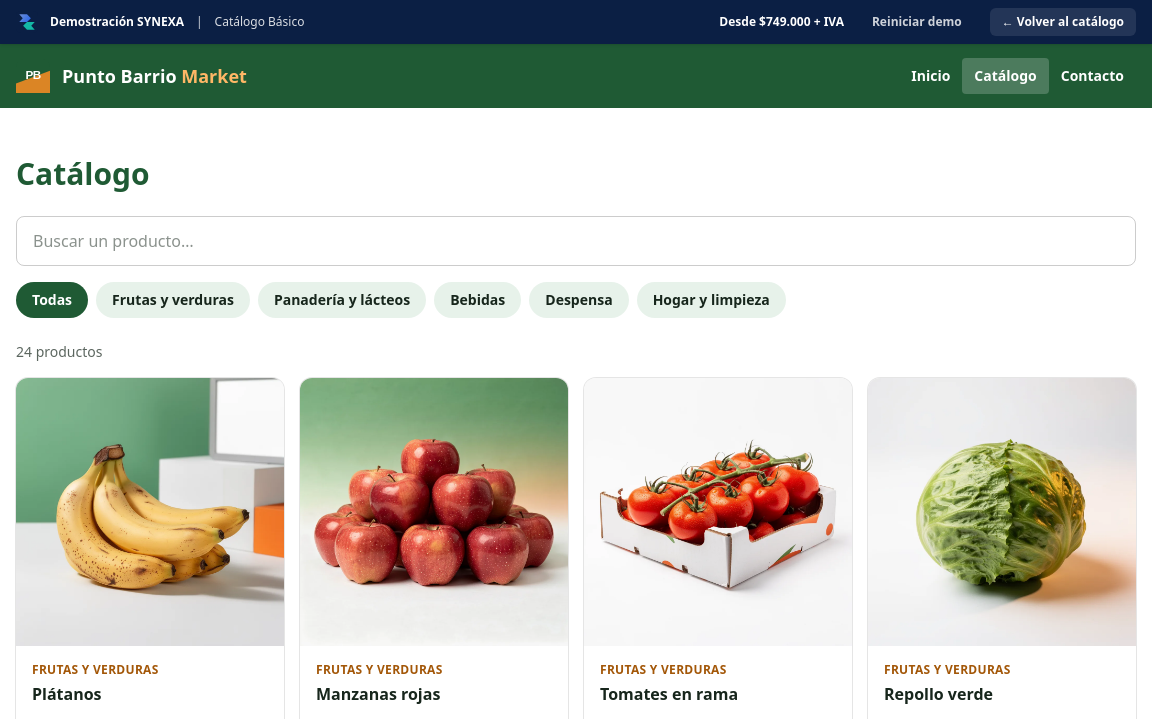
Test: demo Punto Barrio Market › el catálogo muestra los 24 productos y filtra por categoría y texto
Check: the heading "Catálogo" is shown, box [16,153,150,194]
Click the button "Bebidas": point(478, 300) [434,282,521,318]
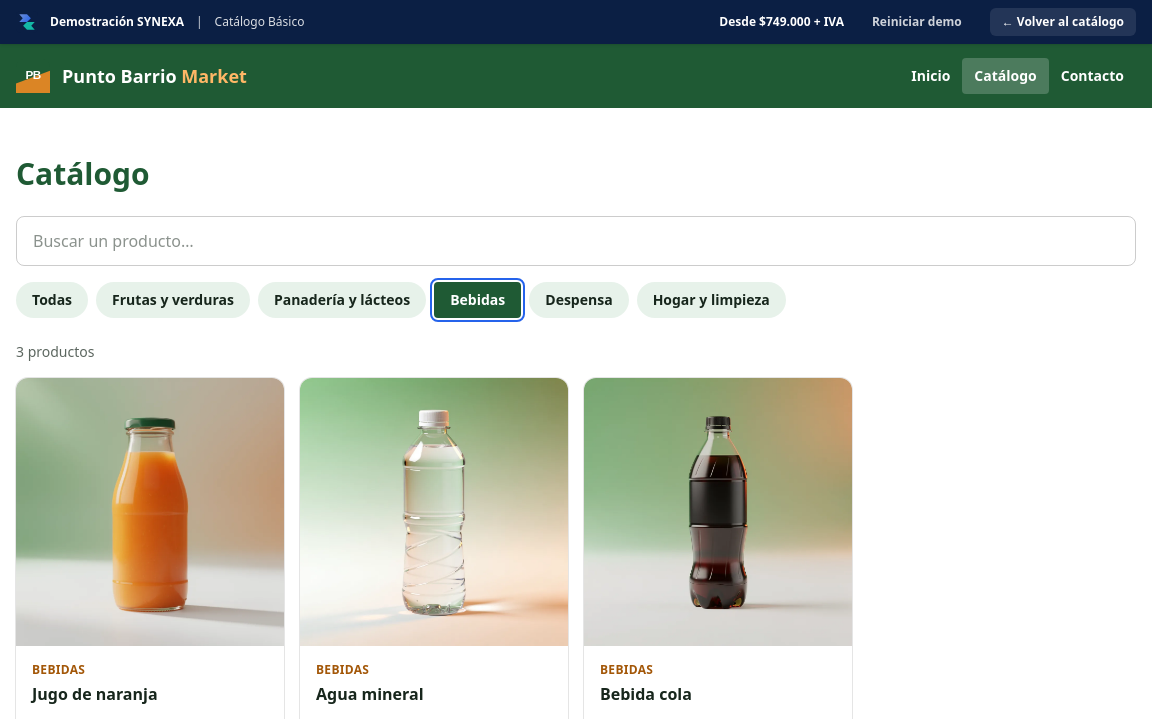
Click the button "Todas": point(52, 300) [16,282,88,318]
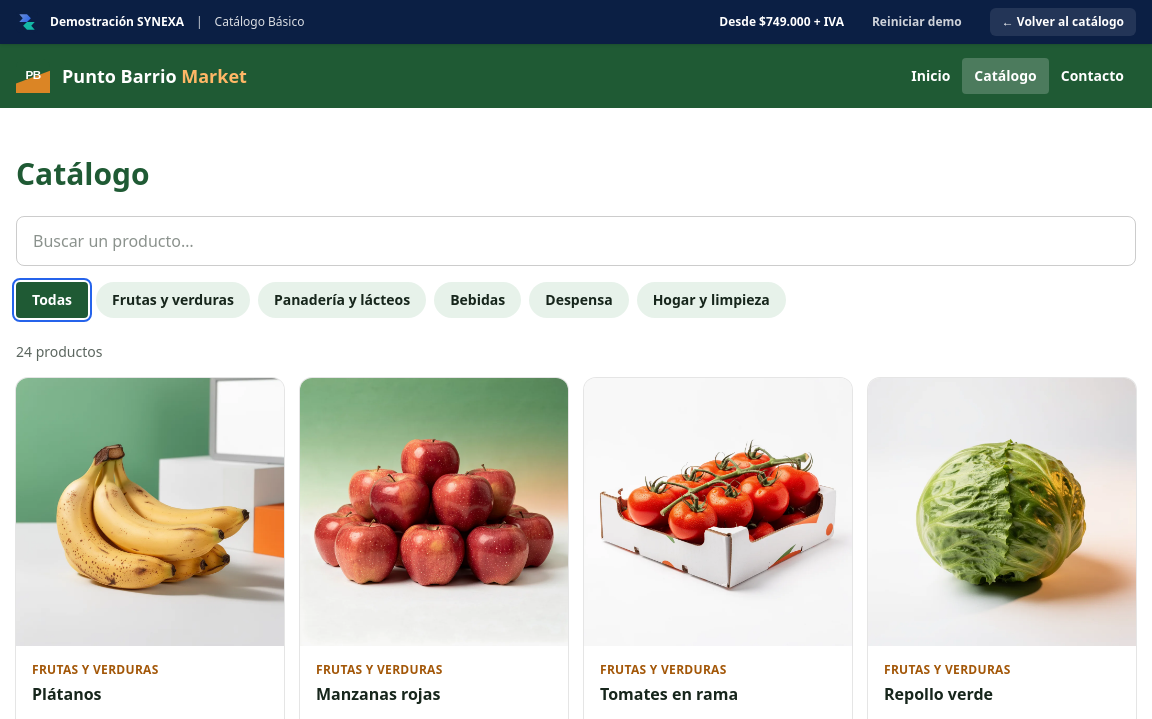
In the search field labelled "Buscar un producto": point(576, 241) [16,216,1136,266], type "arroz"
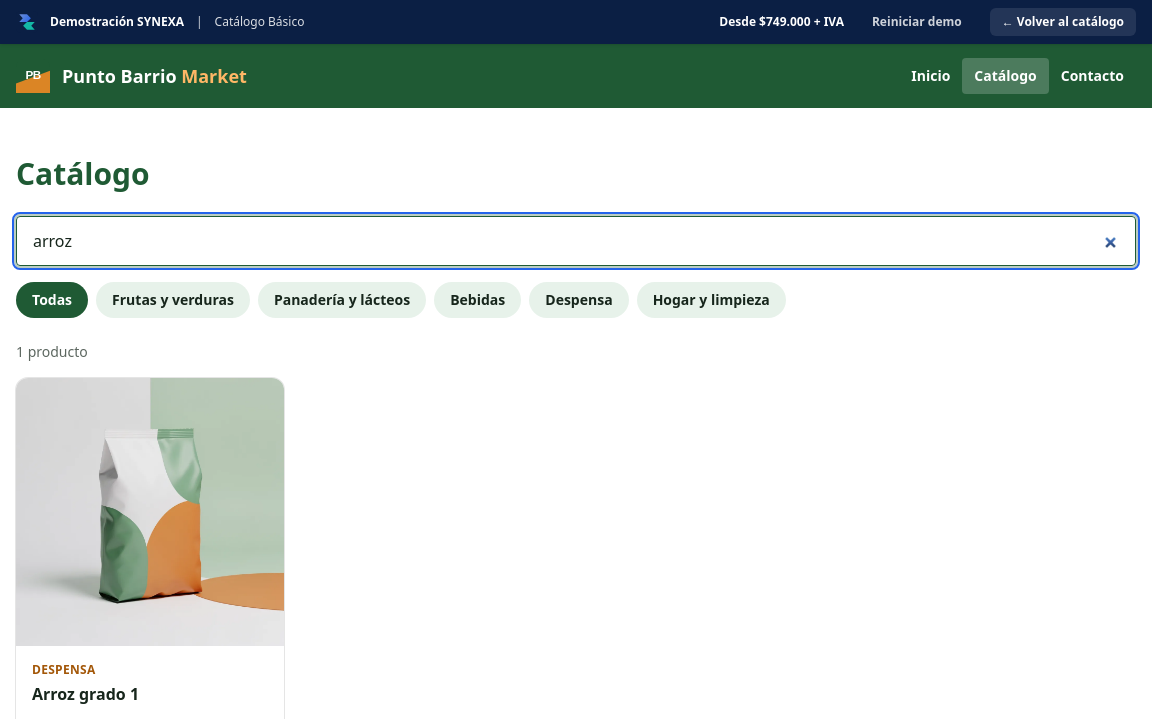
Replace the text in the search field named "Buscar un producto" with "zzzz": point(576, 241) [16,216,1136,266]
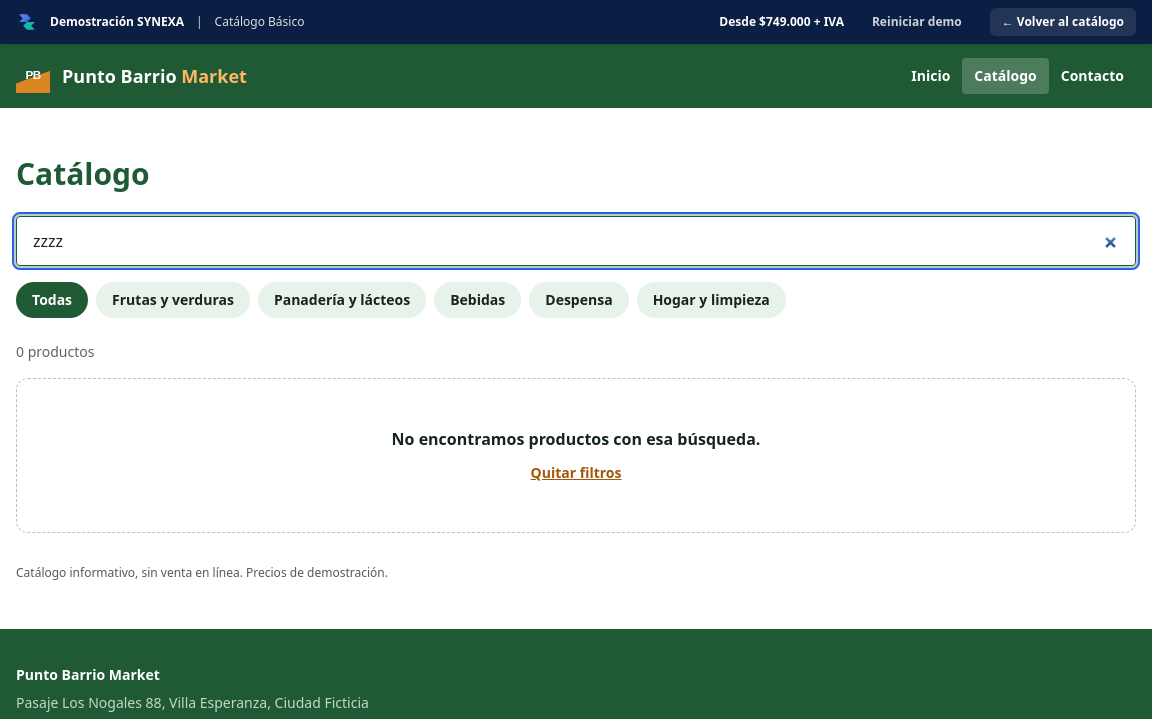
Check: the text "No encontramos productos con esa búsqueda." is shown, box [392,428,760,450]
